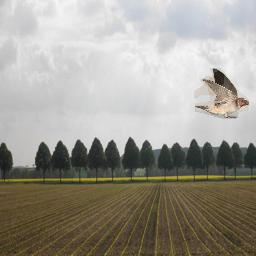Swallow: (194, 68, 249, 119)
